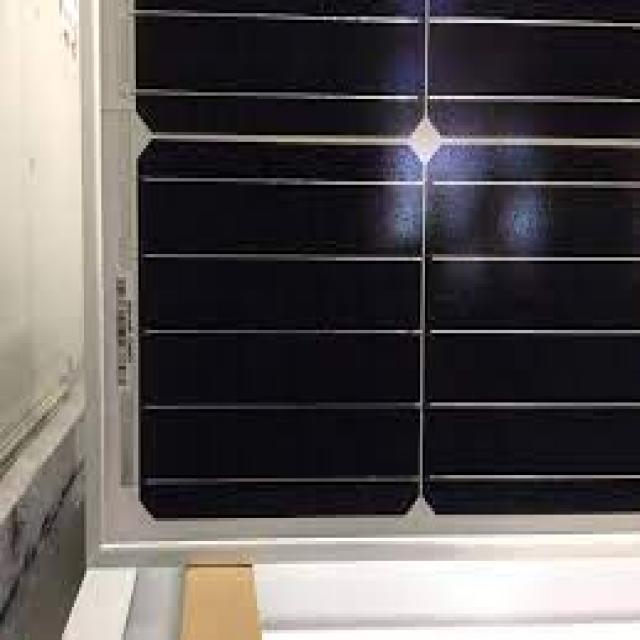no faulty: (136, 10, 640, 561)
